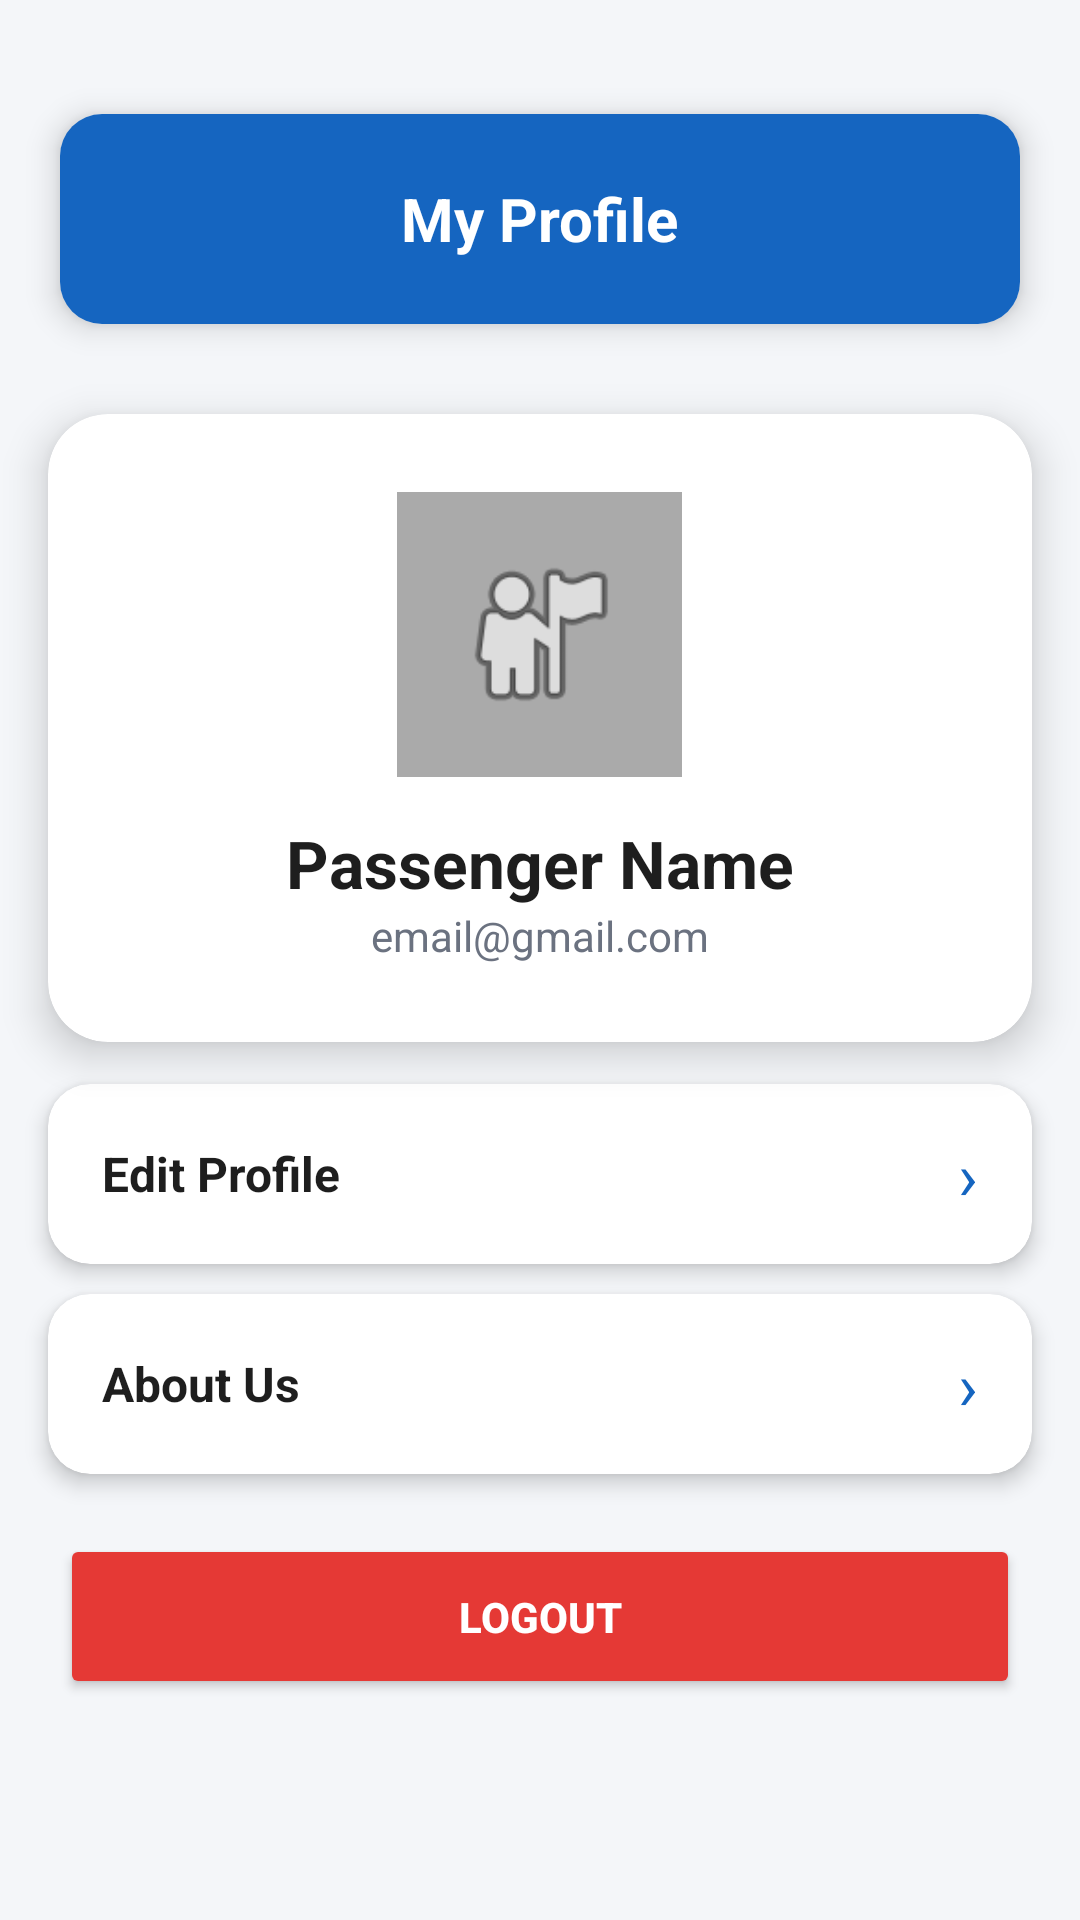

Where to tap for icons on this 1080 x 1920 app screen, as (x=x, y=y):
myplaces: (x=539, y=634)
